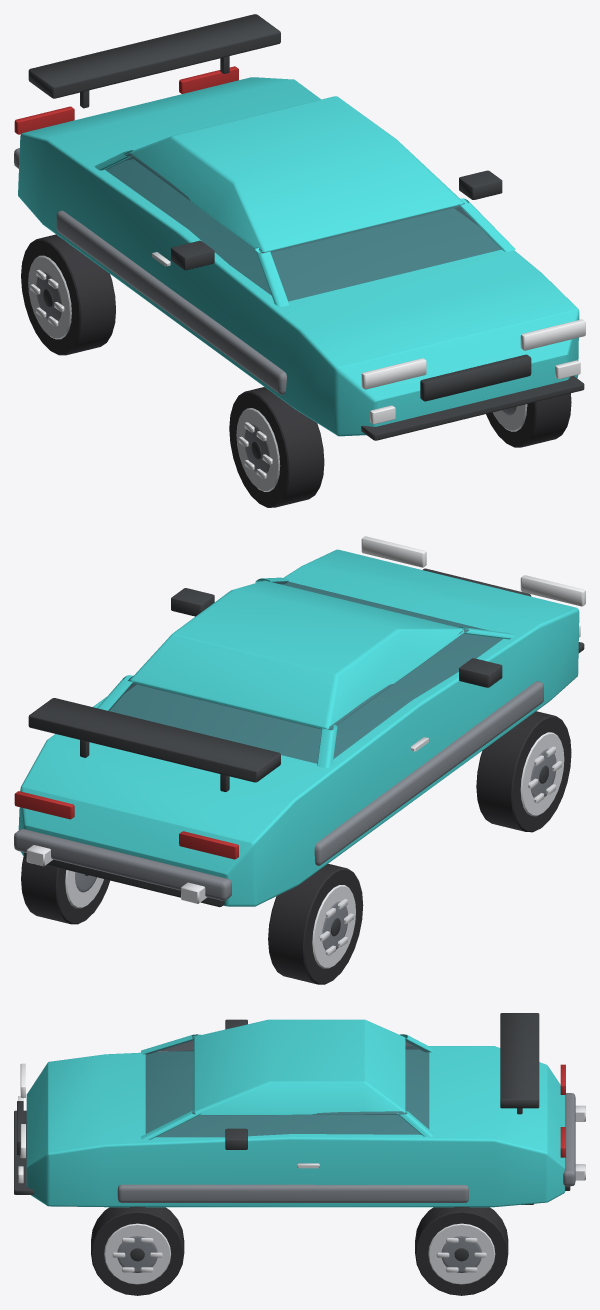
File: ghostline-street.glb
3 renders of one model, top to bottom at view 1: azimuth 30°, elevation 25°; view 2: azimuth 150°, elevation 25°; view 3: azimuth 270°, elevation 25°, orthographic. The views are drawn at different scales.
Parts seen in each view (by area): view 1: paint, trim, glass, tyre, accent, rim, head, tail; view 2: paint, tyre, glass, trim, accent, rim, head, tail; view 3: paint, glass, accent, tyre, trim, rim, head.
Boxes of the visible parts, box(x1,y1,x2,y2) form: paint: box(18, 77, 579, 436); trim: box(28, 14, 584, 459); glass: box(105, 153, 501, 301); tyre: box(21, 234, 571, 507); accent: box(14, 148, 516, 473); rim: box(28, 252, 527, 491); head: box(361, 319, 585, 424); tail: box(14, 66, 238, 134); paint: box(18, 549, 579, 906); tyre: box(21, 711, 571, 984); glass: box(109, 581, 502, 763); trim: box(24, 568, 584, 936); accent: box(14, 681, 556, 950); rim: box(26, 732, 564, 968); head: box(361, 536, 585, 637); tail: box(14, 791, 238, 859); paint: box(26, 1019, 565, 1207); glass: box(145, 1037, 429, 1137); accent: box(117, 1093, 575, 1272); tyre: box(91, 1206, 508, 1295); trim: box(14, 1013, 570, 1261); rim: box(104, 1105, 585, 1284); head: box(18, 1063, 25, 1183).
Bounding box in the file's own units: 2.27 × 1.68 × 4.53.
